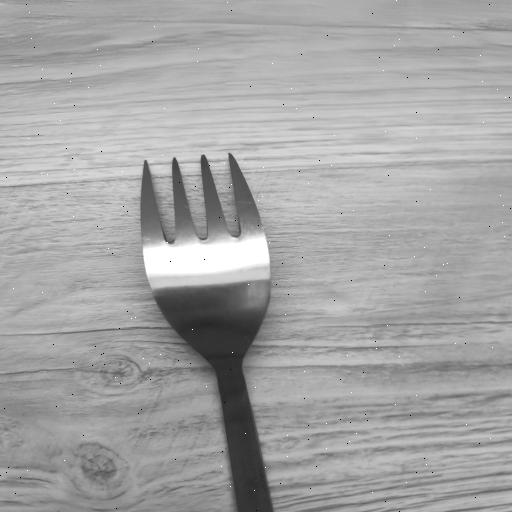fork: (135, 150, 284, 512)
